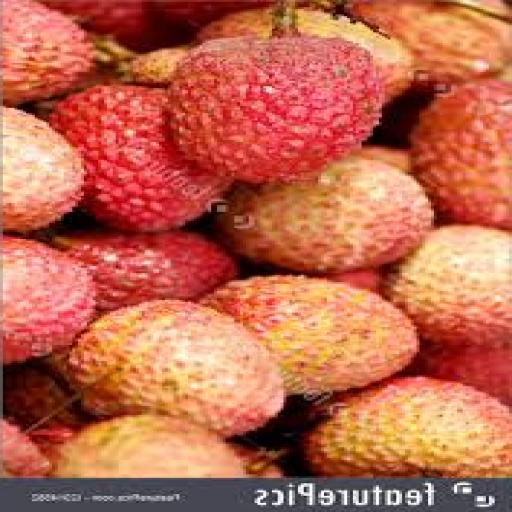lychee: (167, 36, 380, 183), (66, 301, 282, 436), (49, 85, 227, 231), (216, 155, 432, 273), (202, 275, 415, 393), (303, 378, 511, 477), (410, 80, 511, 229), (384, 227, 511, 344), (350, 0, 511, 91), (54, 230, 236, 310), (52, 415, 244, 477), (2, 238, 94, 364), (295, 9, 409, 98), (2, 108, 82, 231), (0, 0, 91, 105), (410, 342, 511, 407), (0, 421, 51, 477)
